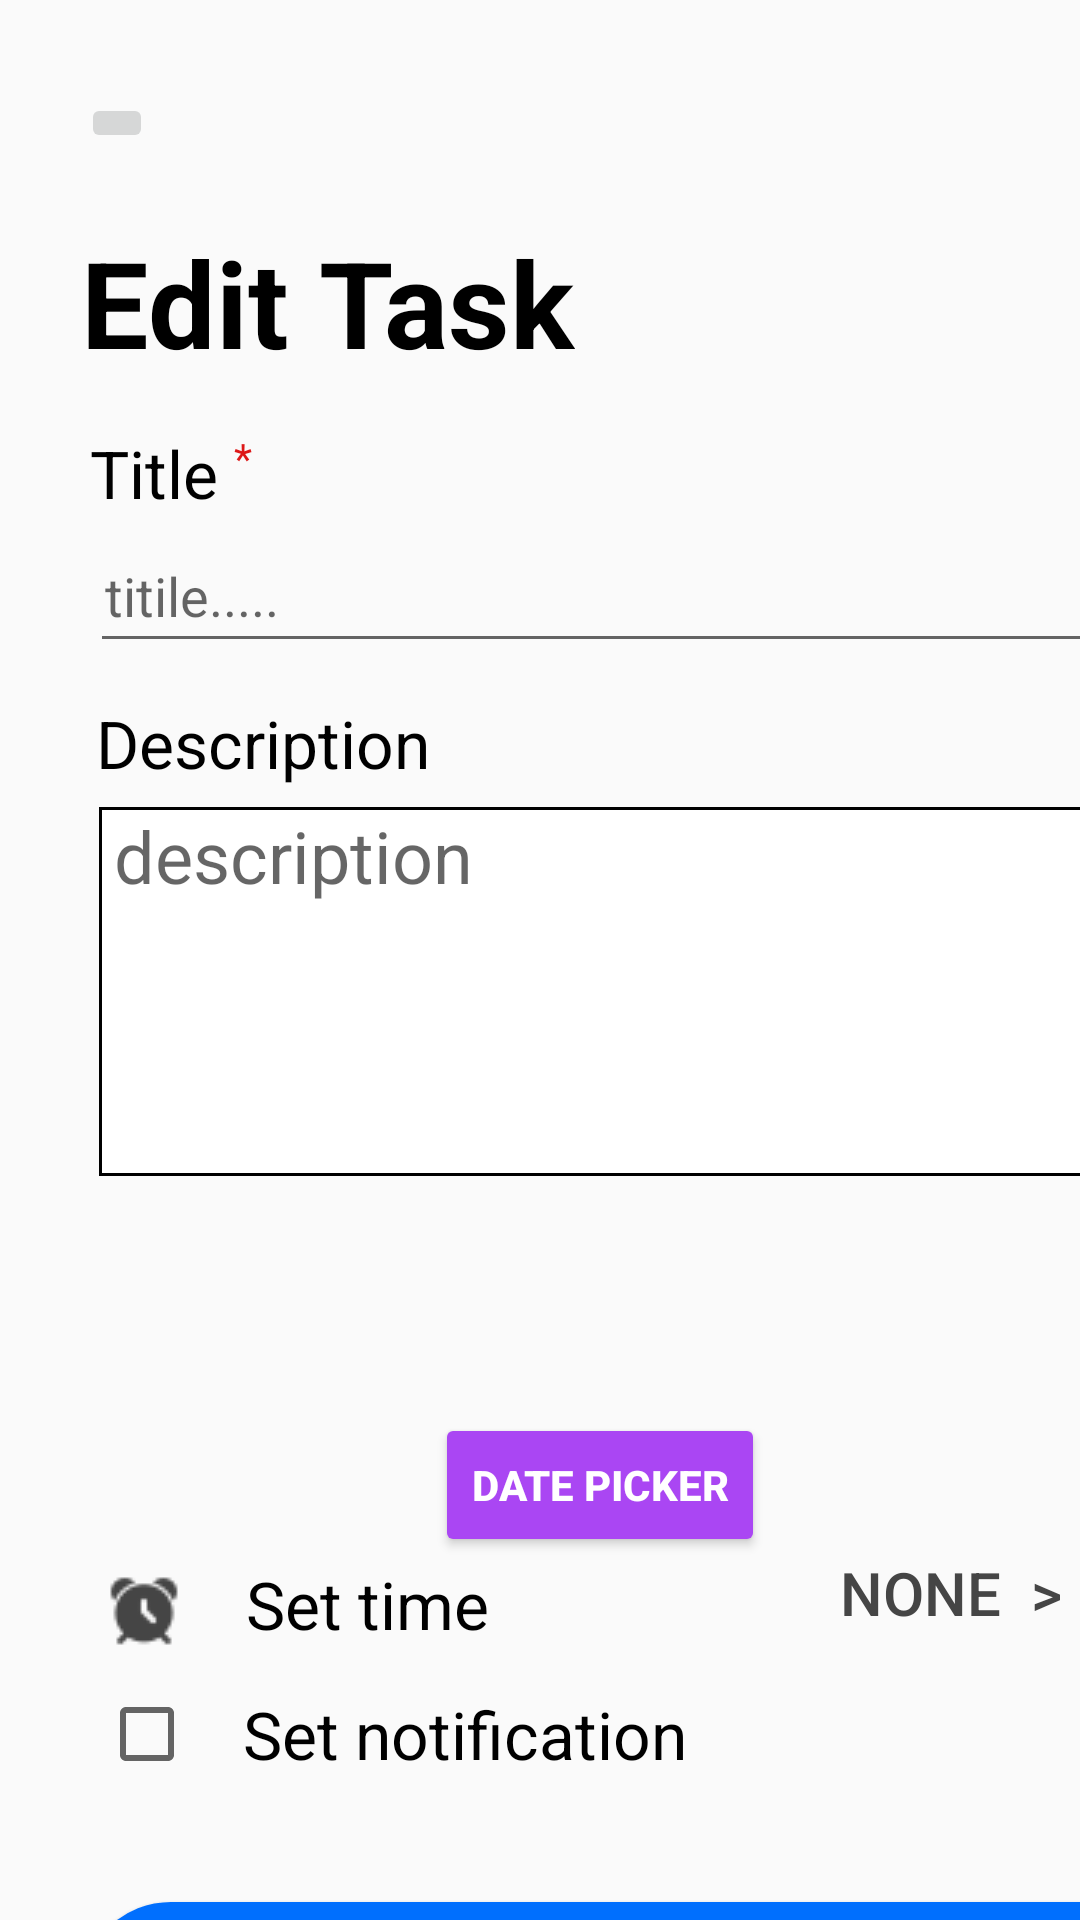

Point at icon controls on the screen. Image size 1080 × 1920, points as point (x, y).
alarmclock: point (144, 1611)
